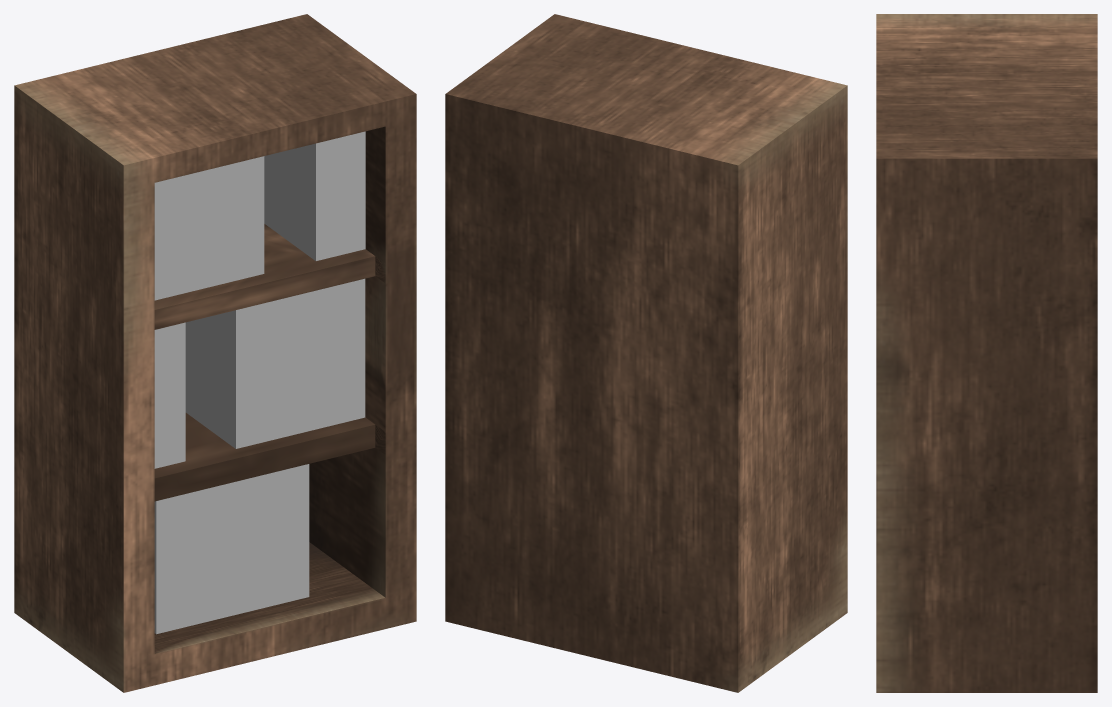
Rendered from BookShelf_01.fbx.
3 renders of one model, left to right at view 1: azimuth 30°, elevation 25°; view 2: azimuth 150°, elevation 25°; view 3: azimuth 270°, elevation 25°, orthographic.
Parts seen in each view (by area): view 1: Books01; view 2: Books01; view 3: Books01.
Boxes of the visible parts, <box> form: Books01: <box>14,14,416,692</box>; Books01: <box>445,14,847,692</box>; Books01: <box>876,14,1097,692</box>.
Bounding box in the file's own units: 123 × 212 × 79.67.
